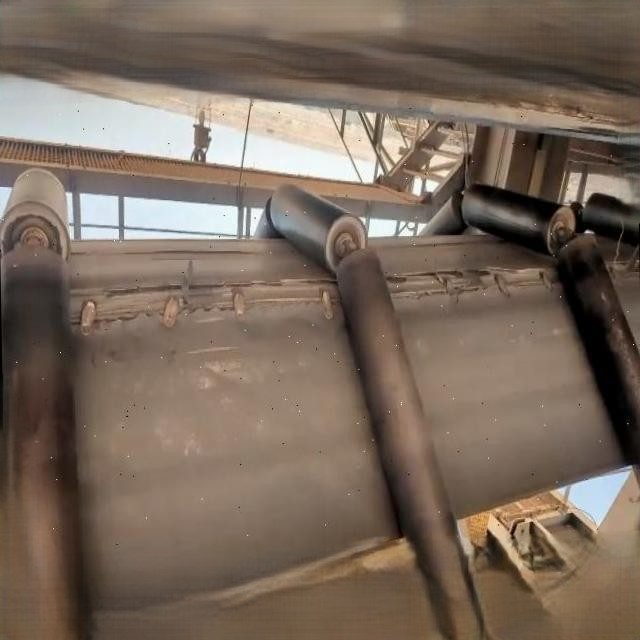Tear: (59, 270, 344, 338), (382, 252, 566, 306)
